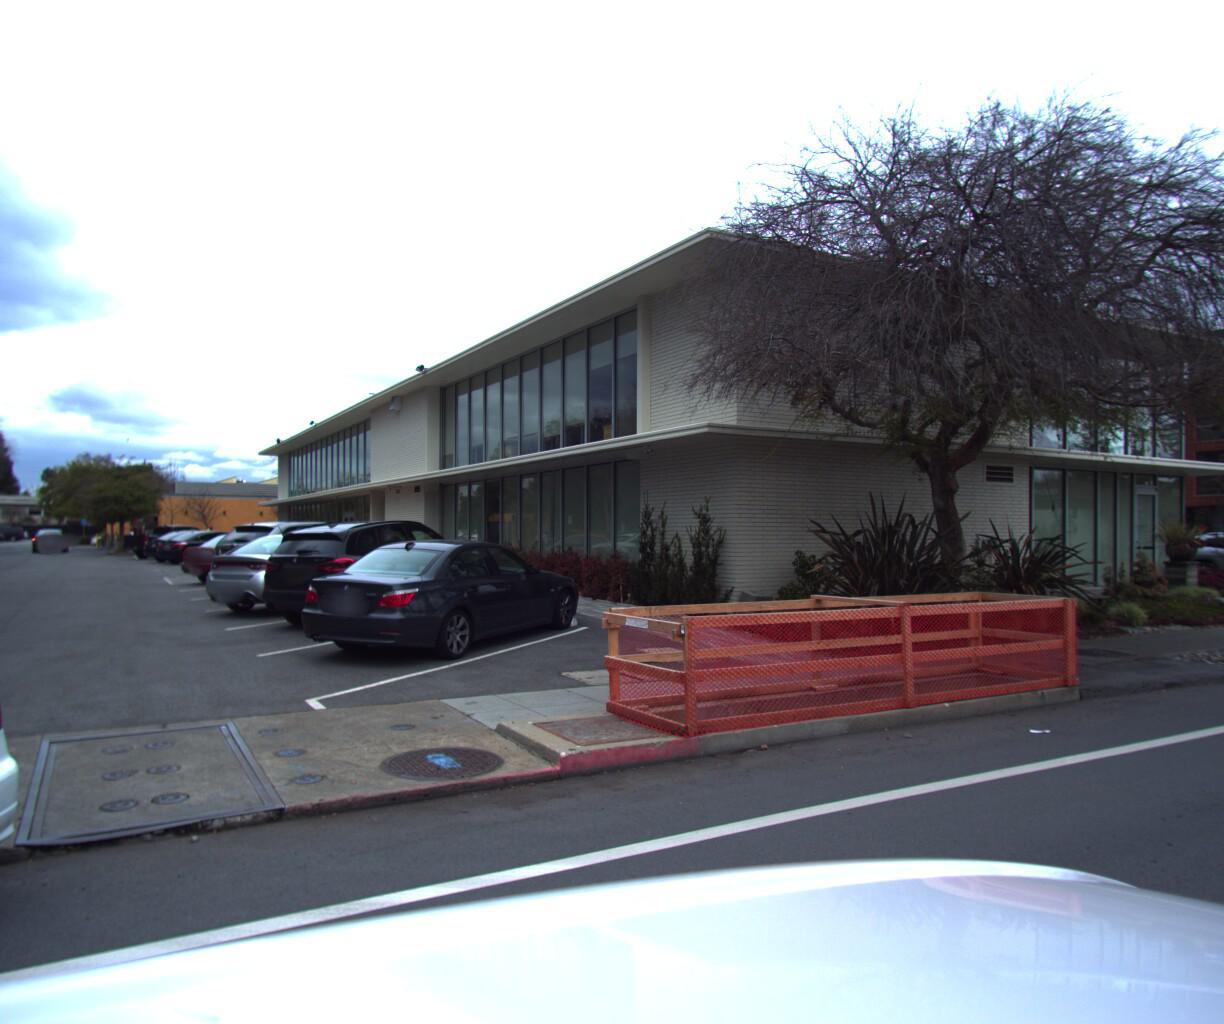car: (272, 533, 595, 669), (240, 516, 503, 633), (0, 542, 34, 1024), (1170, 531, 1224, 590)
